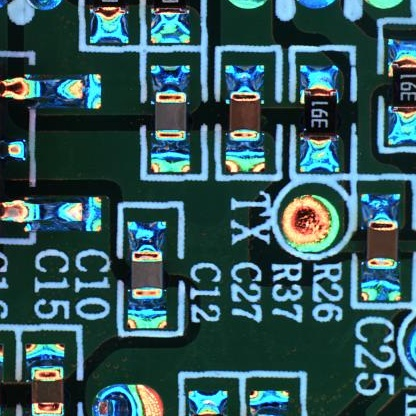spot: (282, 195, 339, 252), (93, 384, 166, 416)
